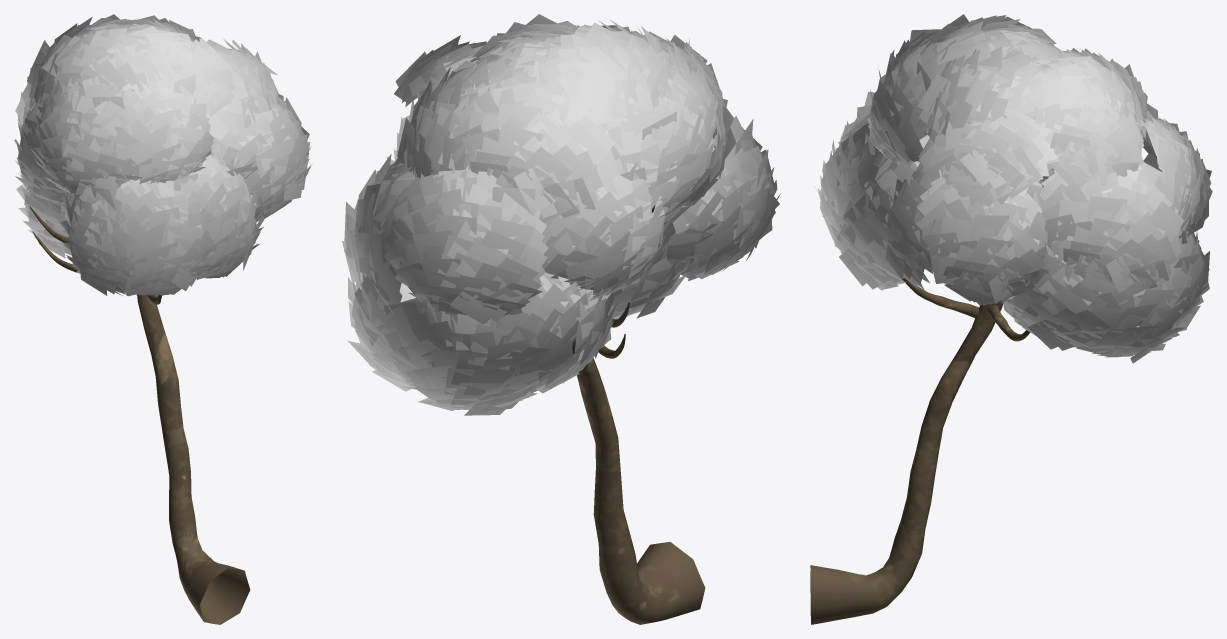
The model's file is StandardTreeCliff_Tall_LOD.fbx.
The picture shows the model from 3 angles, left to right: view 1: azimuth 30°, elevation 25°; view 2: azimuth 150°, elevation 25°; view 3: azimuth 270°, elevation 25°; orthographic projection. The views are drawn at different scales.
Parts seen in each view (by area): view 1: Top_Tree_Cliff_Tall_LOD_0, Standar_Trunk_Cliff_Tall_LOD_0; view 2: Top_Tree_Cliff_Tall_LOD_0, Standar_Trunk_Cliff_Tall_LOD_0; view 3: Top_Tree_Cliff_Tall_LOD_0, Standar_Trunk_Cliff_Tall_LOD_0.
Boxes of the visible parts, x1=… form: Top_Tree_Cliff_Tall_LOD_0: x1=14, y1=14, x2=312, y2=296; Standar_Trunk_Cliff_Tall_LOD_0: x1=27, y1=142, x2=250, y2=624; Top_Tree_Cliff_Tall_LOD_0: x1=342, y1=14, x2=780, y2=415; Standar_Trunk_Cliff_Tall_LOD_0: x1=408, y1=205, x2=705, y2=624; Top_Tree_Cliff_Tall_LOD_0: x1=814, y1=14, x2=1212, y2=363; Standar_Trunk_Cliff_Tall_LOD_0: x1=810, y1=278, x2=1030, y2=624.
Size of what is drawn, in the model's own units: 1618 by 3125 by 1932.
